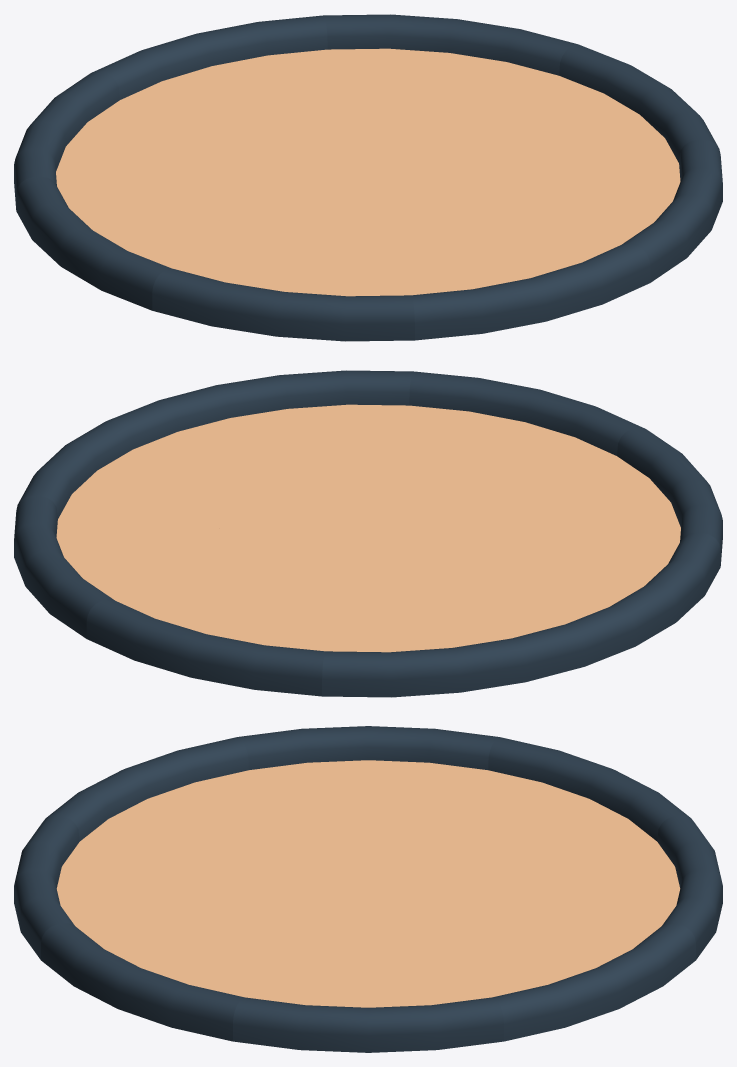
The model's file is Dough Classic C.fbx.
3 renders of one model, top to bottom at view 1: azimuth 30°, elevation 25°; view 2: azimuth 150°, elevation 25°; view 3: azimuth 270°, elevation 25°, orthographic.
Parts seen in each view (by area): view 1: Dough.119, Dough.115, Dough.118, Dough.114, Dough.120, Dough.116, Dough.117, Dough.121; view 2: Dough.121, Dough.117, Dough.114, Dough.118, Dough.120, Dough.116, Dough.115, Dough.119; view 3: Dough.120, Dough.116, Dough.115, Dough.117, Dough.119, Dough.121, Dough.114, Dough.118.
Part boxes in pixels (x1=…): Dough.119: x1=152, y1=181, x2=414, y2=341; Dough.115: x1=323, y1=14, x2=577, y2=180; Dough.118: x1=368, y1=181, x2=650, y2=340; Dough.114: x1=96, y1=15, x2=368, y2=180; Dough.120: x1=16, y1=176, x2=367, y2=310; Dough.116: x1=369, y1=44, x2=718, y2=180; Dough.117: x1=369, y1=140, x2=722, y2=282; Dough.121: x1=14, y1=71, x2=367, y2=209; Dough.121: x1=322, y1=537, x2=584, y2=697; Dough.117: x1=159, y1=370, x2=413, y2=536; Dough.114: x1=86, y1=537, x2=368, y2=696; Dough.118: x1=368, y1=371, x2=640, y2=536; Dough.120: x1=369, y1=532, x2=720, y2=666; Dough.116: x1=18, y1=400, x2=367, y2=536; Dough.115: x1=14, y1=496, x2=367, y2=638; Dough.119: x1=369, y1=427, x2=722, y2=565; Dough.120: x1=237, y1=726, x2=499, y2=891; Dough.116: x1=233, y1=892, x2=503, y2=1052; Dough.115: x1=369, y1=892, x2=695, y2=1041; Dough.117: x1=41, y1=892, x2=367, y2=1041; Dough.119: x1=46, y1=737, x2=367, y2=891; Dough.121: x1=369, y1=737, x2=690, y2=891; Dough.114: x1=369, y1=815, x2=722, y2=959; Dough.118: x1=14, y1=815, x2=367, y2=959.
Bounding box in the file's own units: 2 × 0.1032 × 2.
